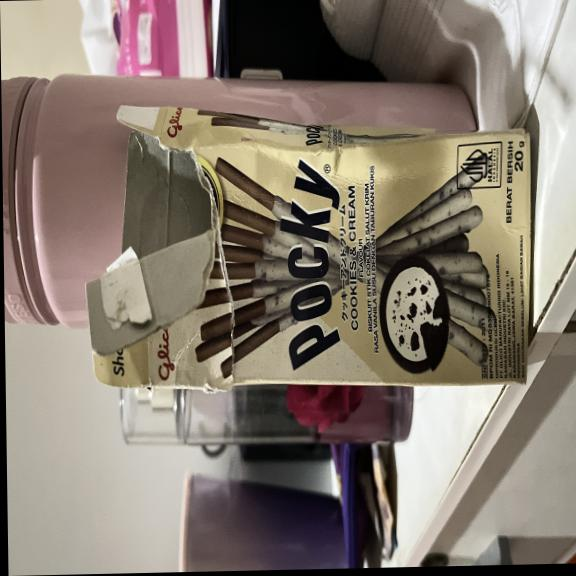Kertas: (149, 130, 534, 387)
